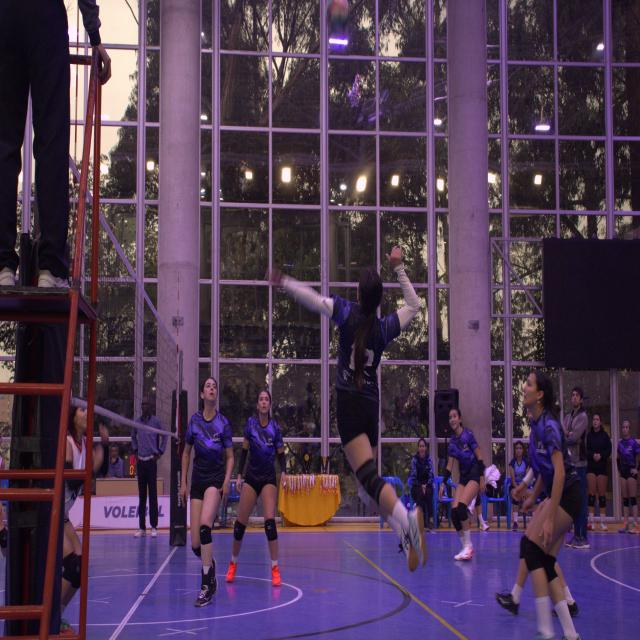volleyball: (327, 1, 349, 30)
